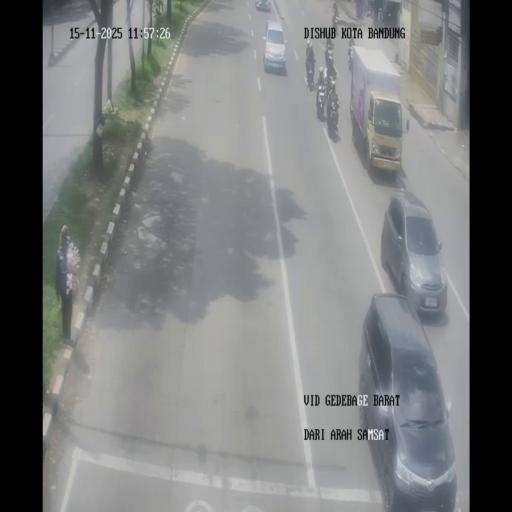car: (358, 294, 456, 508), (382, 189, 448, 318), (263, 20, 287, 72), (255, 0, 270, 11)
motorcycle: (327, 94, 340, 134), (315, 80, 327, 120), (306, 59, 316, 90), (326, 53, 337, 80), (324, 12, 333, 40), (364, 0, 374, 18), (332, 7, 339, 28), (348, 47, 353, 72), (325, 37, 334, 50), (377, 6, 384, 22)
truck: (350, 46, 402, 174)
